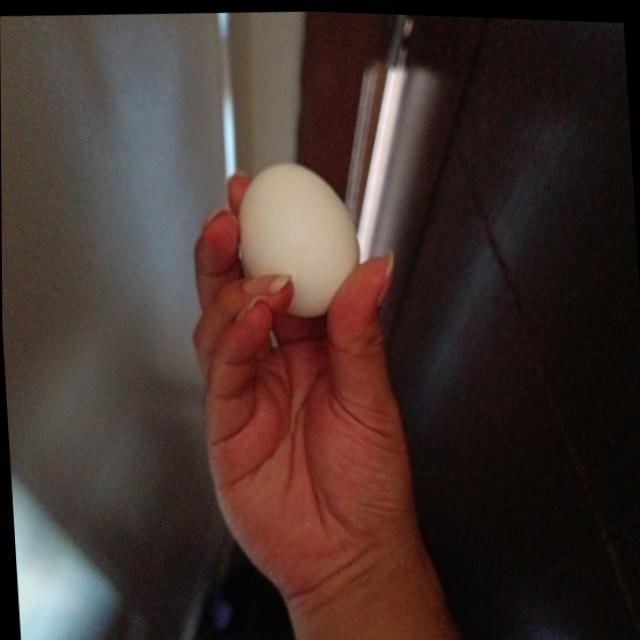egg: (236, 156, 362, 315)
